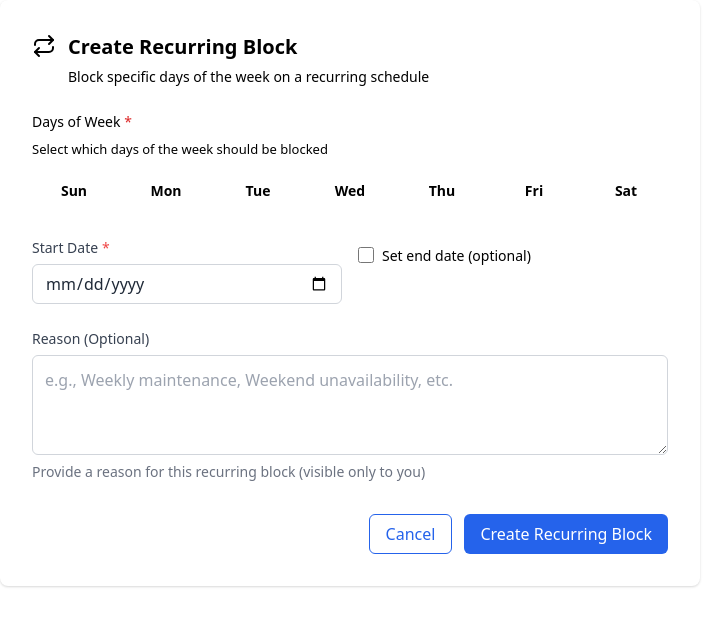
Scenario: RecurringBlockForm › Create Mode › shows validation error when start date is missing
The width and height of the screenshot is (718, 632).
Step 1. Click the checkbox labelled "Mon" → (166, 190), box [150,180,182,200]
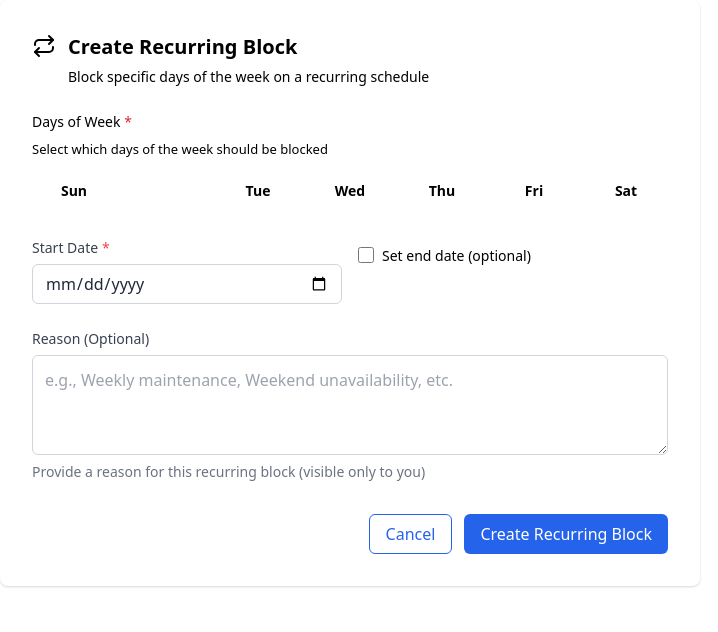
Step 2. Submit the form
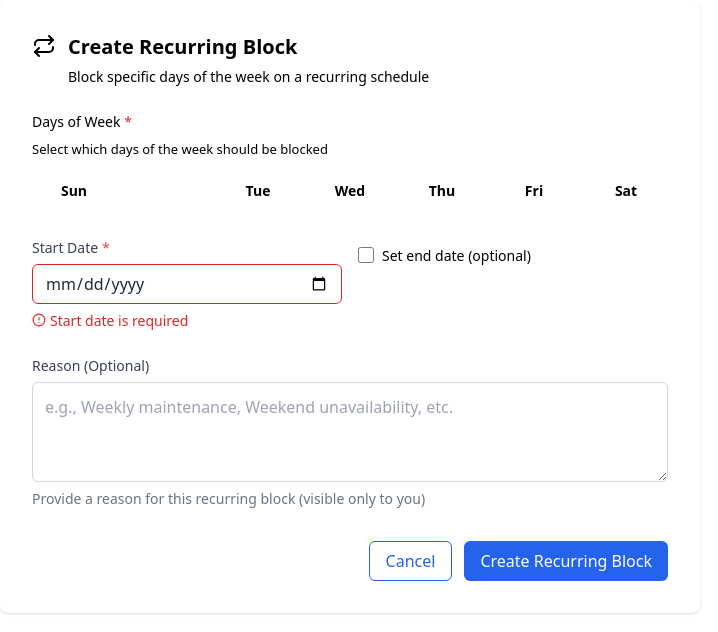
Expected: the text "Start date is required" is shown, [32,310,188,330]
